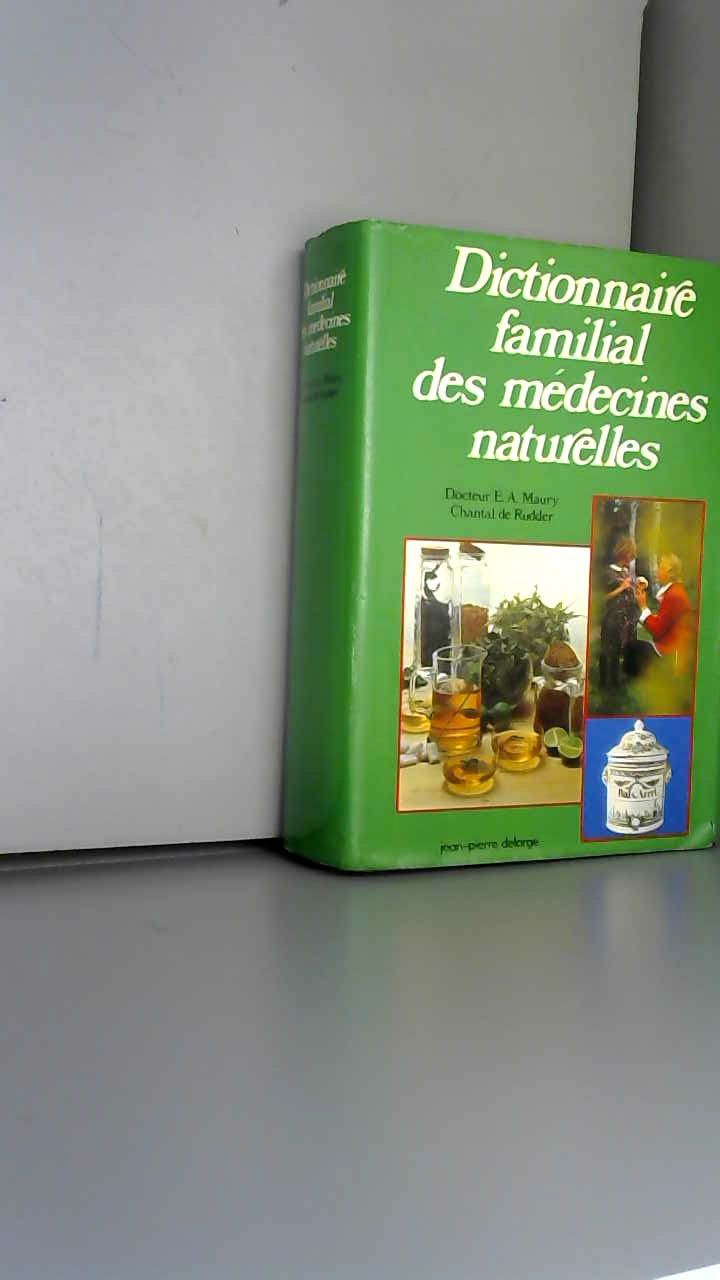book: (250, 190, 717, 897)
